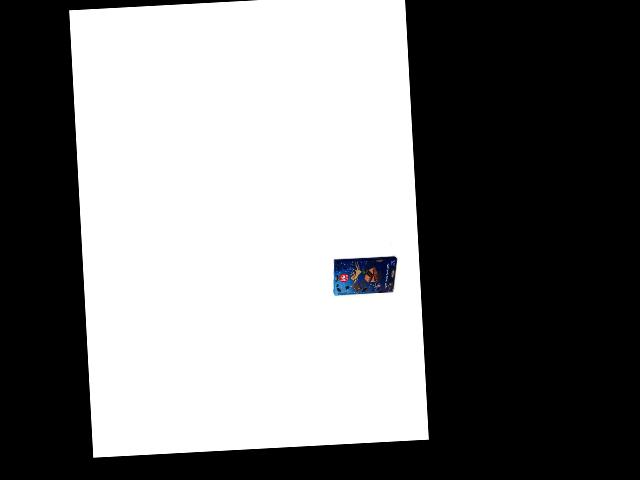chocolate: (330, 251, 399, 300)
